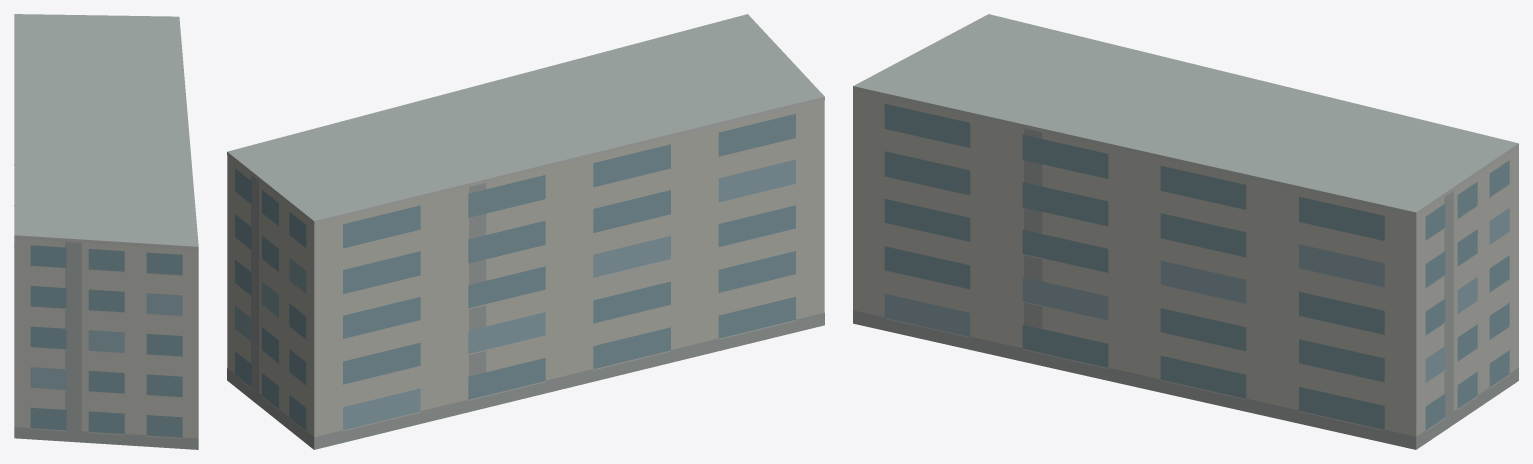
File: residential-33abb02e-25c8-4e48-966c-faca9a6cbc97.glb
3 renders of one model, left to right at view 1: azimuth 30°, elevation 25°; view 2: azimuth 150°, elevation 25°; view 3: azimuth 270°, elevation 25°, orthographic. The views are drawn at different scales.
Visible parts, largest first — view 1: residential-33abb02e-25c8-4e48-966c-faca9a6cbc97.tmp; view 2: residential-33abb02e-25c8-4e48-966c-faca9a6cbc97.tmp; view 3: residential-33abb02e-25c8-4e48-966c-faca9a6cbc97.tmp.
Boxes of the visible parts, bbox=[...] form: residential-33abb02e-25c8-4e48-966c-faca9a6cbc97.tmp: bbox=[14, 14, 198, 449]; residential-33abb02e-25c8-4e48-966c-faca9a6cbc97.tmp: bbox=[227, 14, 824, 449]; residential-33abb02e-25c8-4e48-966c-faca9a6cbc97.tmp: bbox=[853, 14, 1518, 449].
Size of the model in its own units: 27.34 by 15.25 by 38.76.
